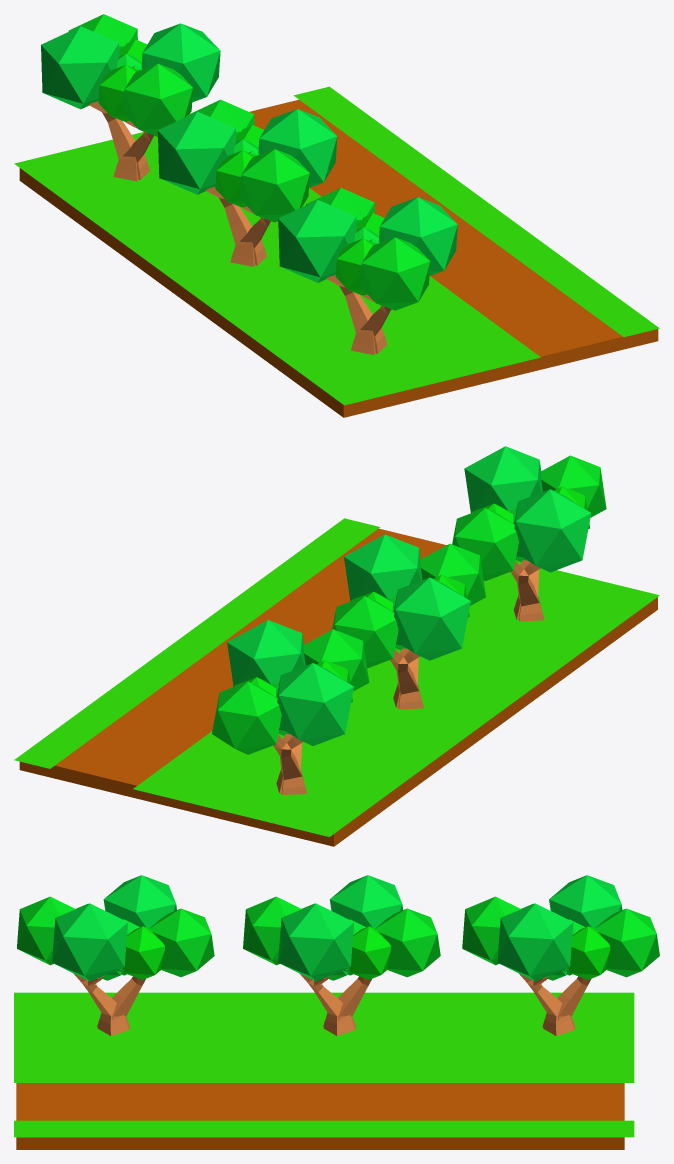
File: lobby.fbx
3 renders of one model, top to bottom at view 1: azimuth 30°, elevation 25°; view 2: azimuth 150°, elevation 25°; view 3: azimuth 270°, elevation 25°, orthographic. The views are drawn at different scales.
Parts seen in each view (by area): view 1: Plane, Cube, Plane.001, Icosphere.003, Icosphere.019, Icosphere.011, Icosphere.005, Icosphere.013, Icosphere.021, Icosphere.015, Icosphere.023, Icosphere.007 (+12 smaller); view 2: Plane, Cube, Plane.001, Icosphere.003, Icosphere.019, Icosphere.011, Icosphere.017, Icosphere.015, Icosphere.007, Icosphere.023, Icosphere.001, Icosphere.009 (+6 smaller); view 3: Plane, Cube, Plane.001, Icosphere.023, Icosphere.015, Icosphere.007, Icosphere.001, Icosphere.009, Icosphere.017, Icosphere.019, Icosphere.003, Icosphere.011 (+12 smaller).
Boxes of the visible parts, <box> form: Plane: <box>14,132,540,405</box>; Cube: <box>19,99,658,417</box>; Plane.001: <box>293,86,659,336</box>; Icosphere.003: <box>278,200,356,282</box>; Icosphere.019: <box>41,26,119,109</box>; Icosphere.011: <box>157,111,236,194</box>; Icosphere.005: <box>360,237,430,310</box>; Icosphere.013: <box>240,149,309,222</box>; Icosphere.021: <box>123,63,192,136</box>; Icosphere.015: <box>258,109,337,187</box>; Icosphere.023: <box>141,23,220,102</box>; Icosphere.007: <box>379,197,457,275</box>; Plane: <box>133,560,659,836</box>; Cube: <box>19,528,657,846</box>; Plane.001: <box>14,518,380,768</box>; Icosphere.003: <box>514,489,591,572</box>; Icosphere.019: <box>276,663,353,745</box>; Icosphere.011: <box>393,577,470,660</box>; Icosphere.017: <box>212,681,281,754</box>; Icosphere.015: <box>344,534,422,601</box>; Icosphere.007: <box>464,446,542,512</box>; Icosphere.023: <box>227,620,305,686</box>; Icosphere.001: <box>452,508,518,581</box>; Icosphere.009: <box>332,596,398,668</box>; Plane: <box>14,992,634,1082</box>; Cube: <box>16,1083,624,1149</box>; Plane.001: <box>14,1120,634,1137</box>; Icosphere.023: <box>497,903,573,981</box>; Icosphere.015: <box>278,903,353,981</box>; Icosphere.007: <box>52,903,127,981</box>; Icosphere.001: <box>149,908,214,977</box>; Icosphere.009: <box>375,908,440,977</box>; Icosphere.017: <box>595,908,659,977</box>; Icosphere.019: <box>549,875,622,928</box>; Icosphere.003: <box>103,875,176,928</box>; Icosphere.011: <box>329,875,402,928</box>.
Bounding box in the file's own units: 2506 × 1248 × 4733.
